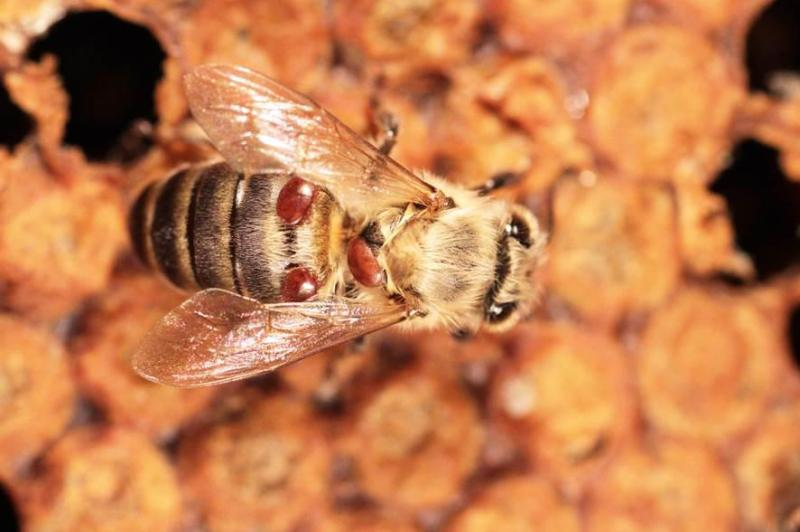Varrao: (275, 175, 316, 225), (346, 236, 384, 288), (282, 264, 316, 300)
